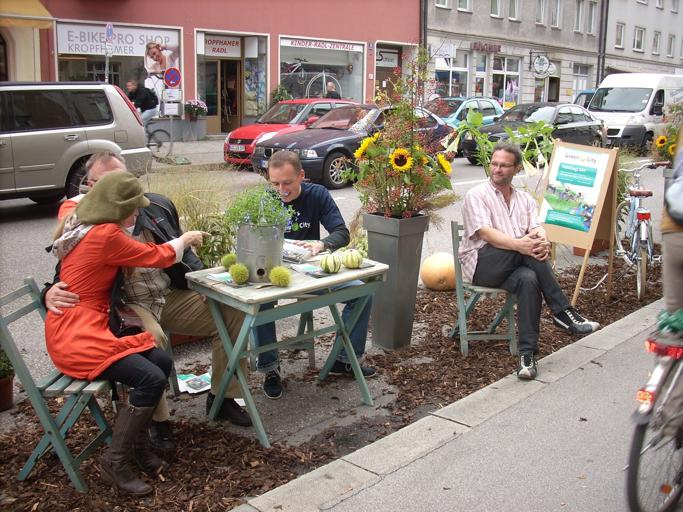non-vehicle: (625, 305, 682, 511), (615, 158, 672, 301), (280, 57, 343, 98), (142, 118, 172, 160)
